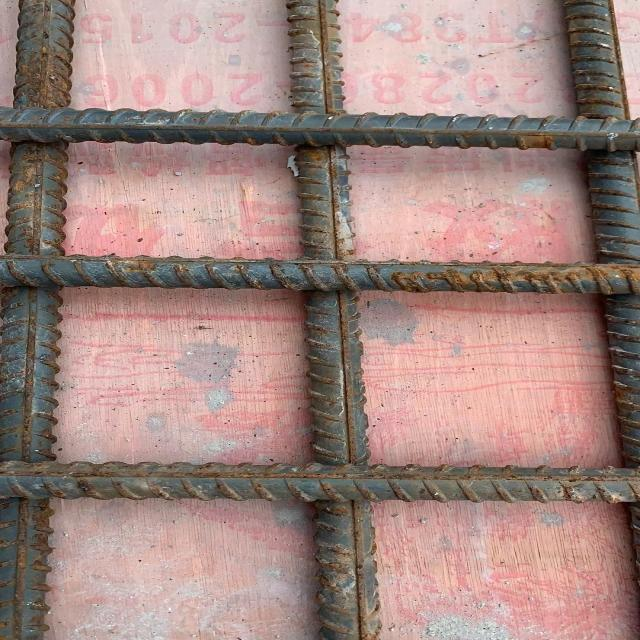ribbed bar: (281, 1, 386, 640), (0, 1, 85, 640), (551, 1, 639, 467), (0, 104, 639, 155), (0, 252, 639, 298), (0, 461, 639, 506)
